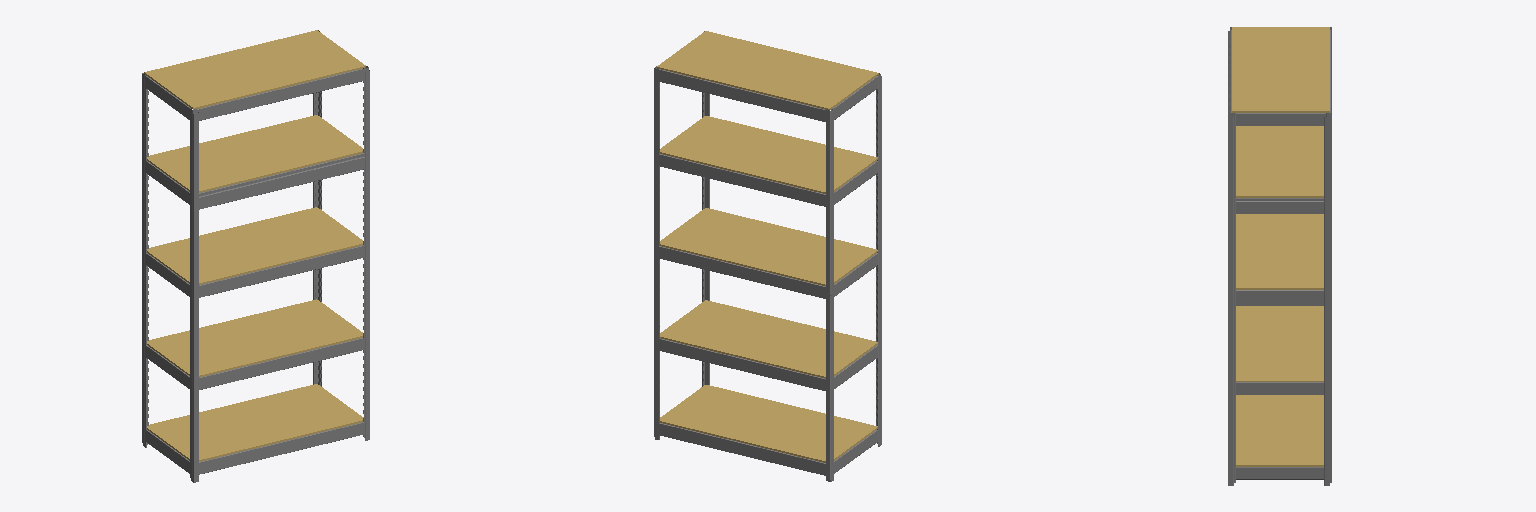
Rendered from shelf.obj.
3 views of the same model, side by side, from view 1: azimuth 30°, elevation 25°; view 2: azimuth 150°, elevation 25°; view 3: azimuth 270°, elevation 25° (orthographic).
Parts seen in each view (by area): view 1: metal_verticals_1; view 2: metal_verticals_1; view 3: metal_verticals_1.
Boxes of the visible parts, x1=… form: metal_verticals_1: x1=142, y1=30, x2=369, y2=482; metal_verticals_1: x1=654, y1=31, x2=881, y2=481; metal_verticals_1: x1=1228, y1=27, x2=1331, y2=485.
Bounding box in the file's own units: 6.01 × 12.14 × 3.06.